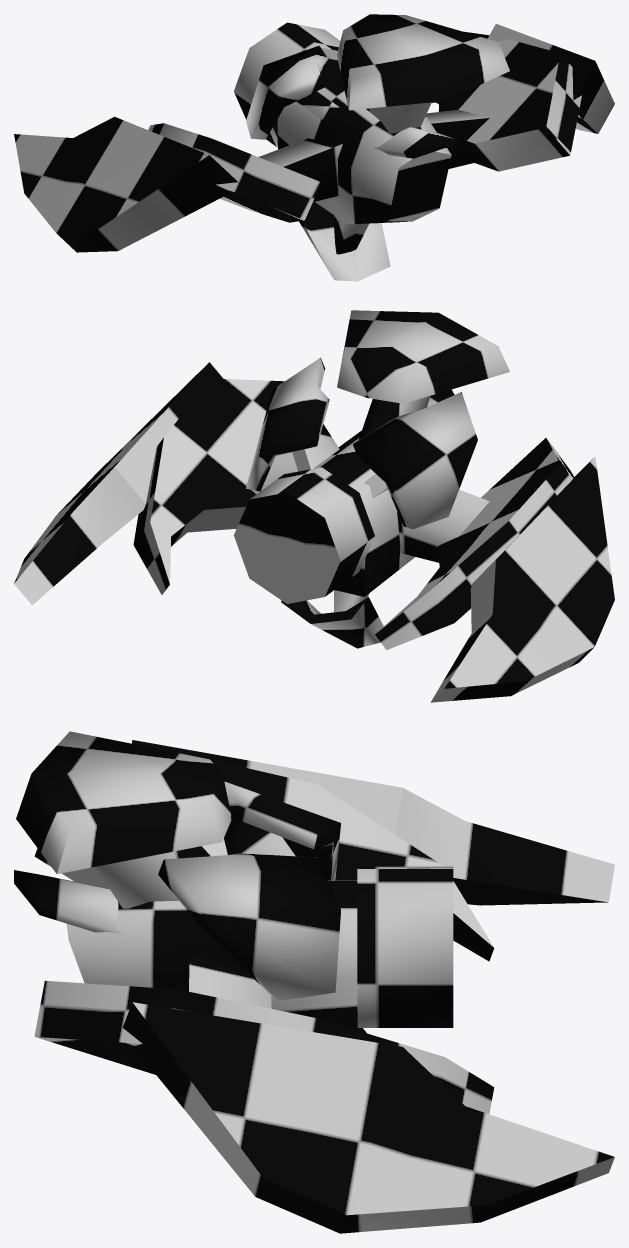
Rendered from drone_bat.obj.
The picture shows the model from 3 angles, top to bottom: view 1: azimuth 30°, elevation 25°; view 2: azimuth 150°, elevation 25°; view 3: azimuth 270°, elevation 25°; orthographic projection. The views are drawn at different scales.
Parts seen in each view (by area): view 1: drone_bat_low; view 2: drone_bat_low; view 3: drone_bat_low.
Boxes of the visible parts, bbox=[...] form: drone_bat_low: bbox=[14, 14, 614, 281]; drone_bat_low: bbox=[14, 310, 614, 702]; drone_bat_low: bbox=[14, 731, 614, 1233].
Bounding box in the file's own units: 33.48 × 16.42 × 23.23.
Materials: 1 (1 with a texture image).
